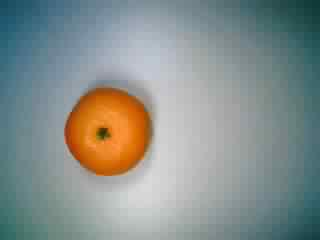orange: (57, 78, 152, 180)
